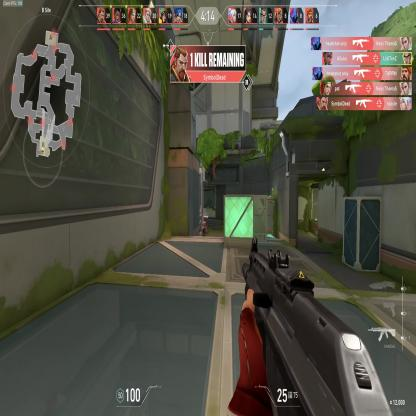enemy: (201, 216, 206, 236)
